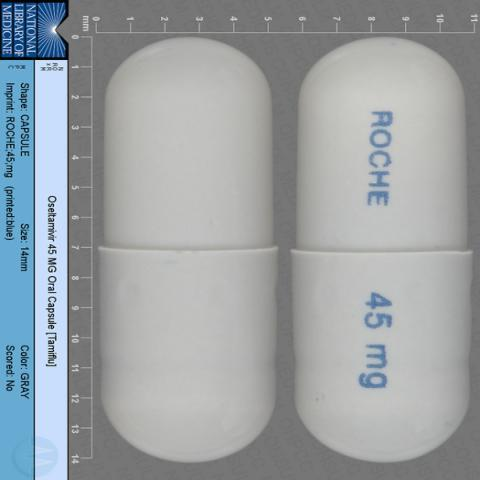Pill: (83, 18, 287, 476), (282, 12, 480, 480)
